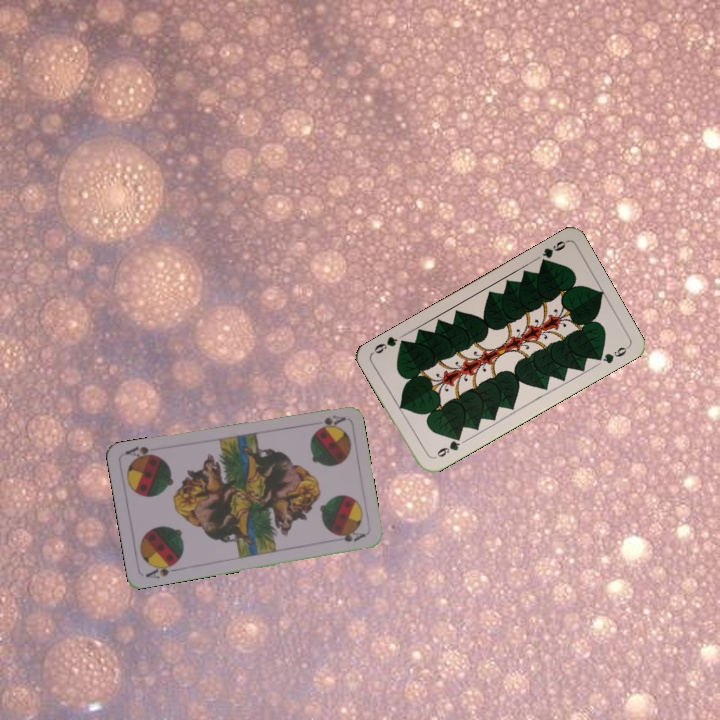G9: (536, 237, 569, 268), (429, 432, 464, 461)
SA: (141, 558, 182, 581), (314, 411, 347, 431)
